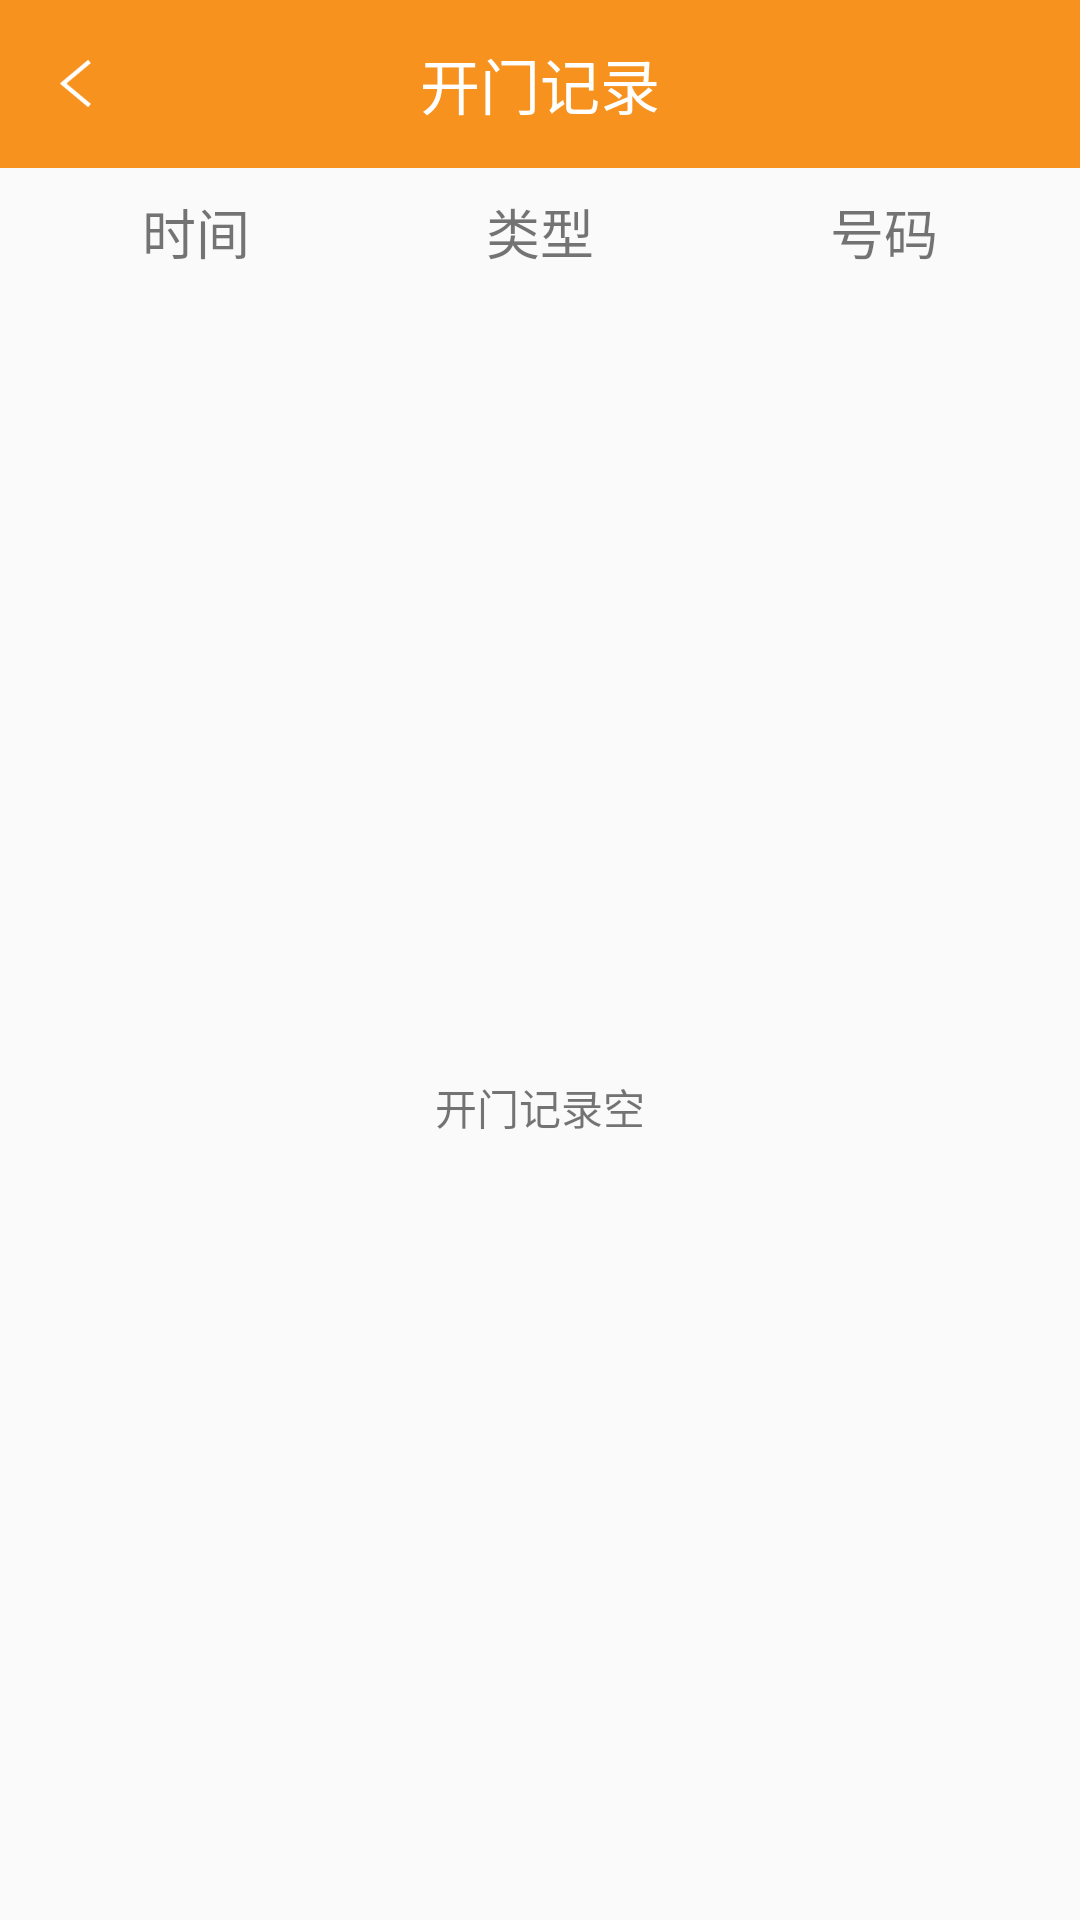

Named icons in this screenshot (1080px x 1920px) and their centers, [x,y]:
back: [75,83]
